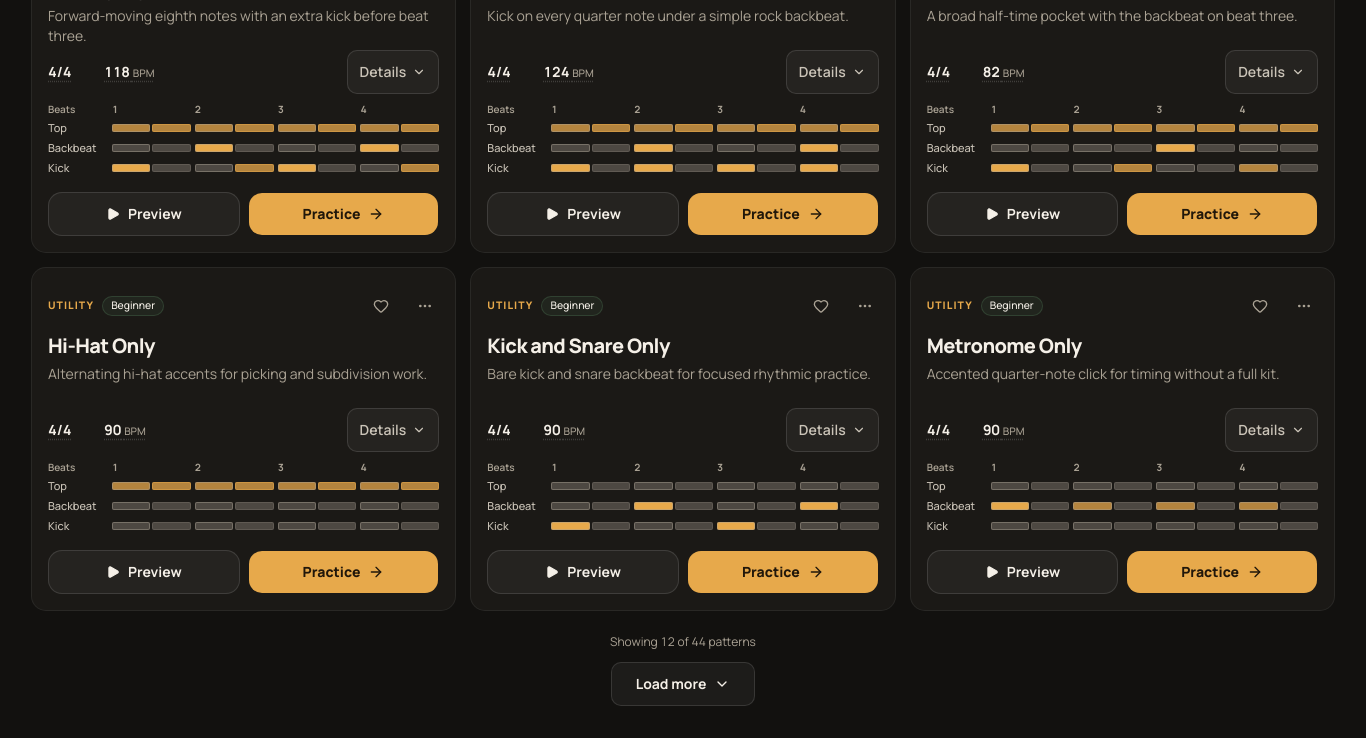
Test: pattern browser › loads all built-in patterns in batches without duplicates and focuses new results
(page scrolled)
Expected: the text "Showing 12 of 44 patterns" is shown, [610, 634, 756, 650]
Click the button "Load more": (683, 684) [611, 662, 755, 706]
(page scrolled)
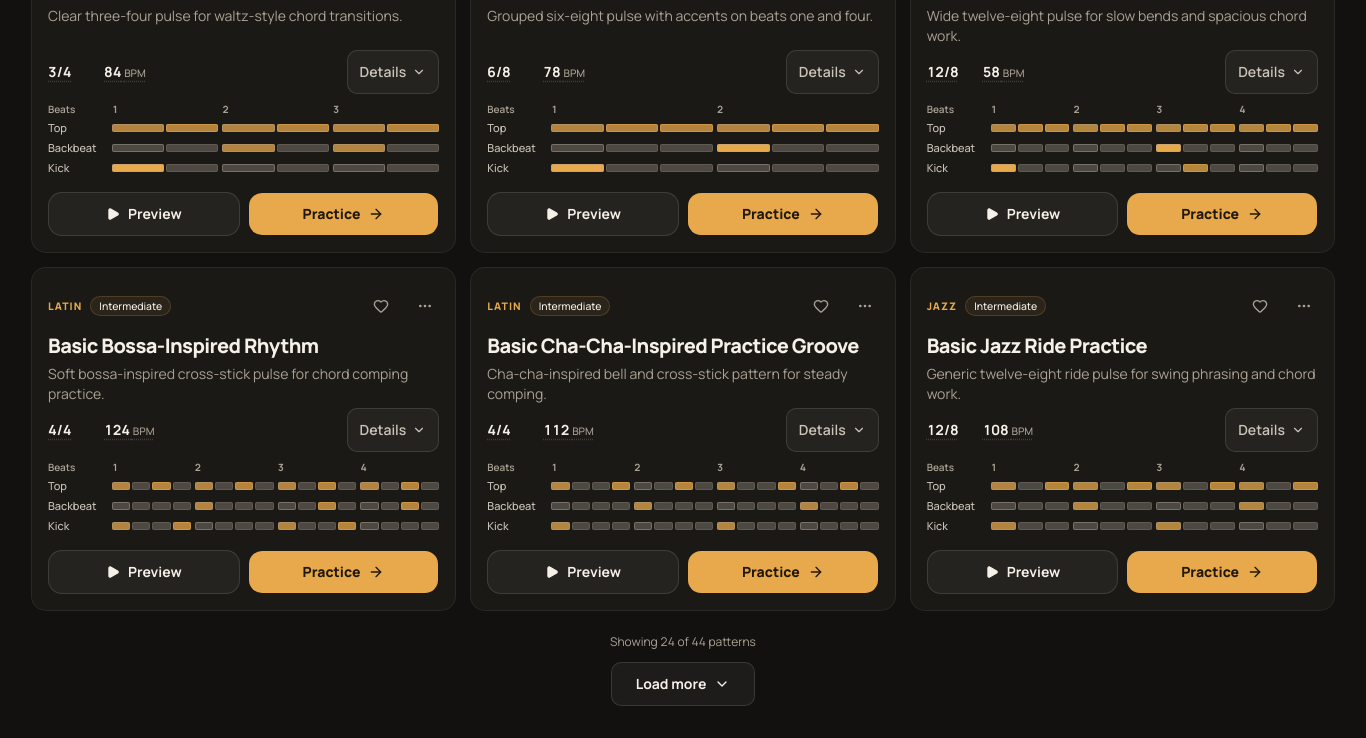
Click the button "Load more": (683, 684) [611, 662, 755, 706]
(page scrolled)
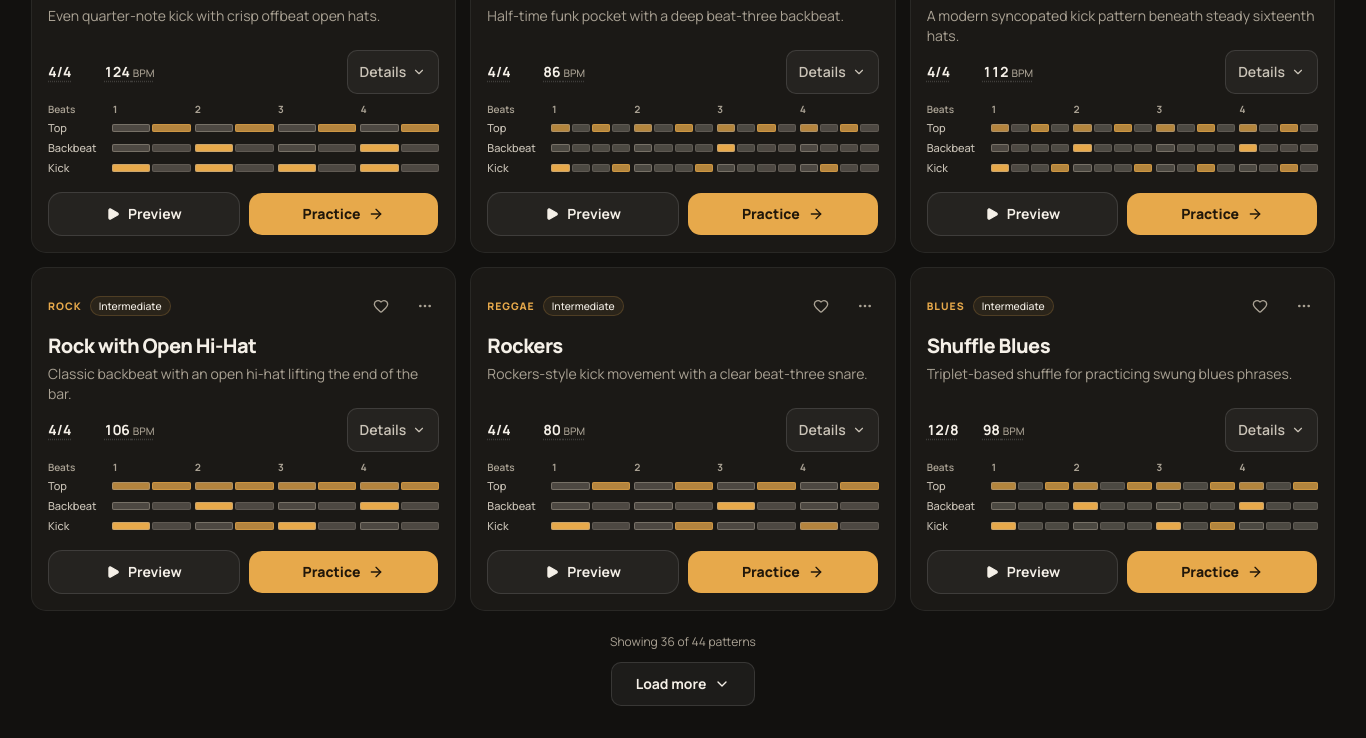
Click the button "Load more": (683, 684) [611, 662, 755, 706]
(page scrolled)
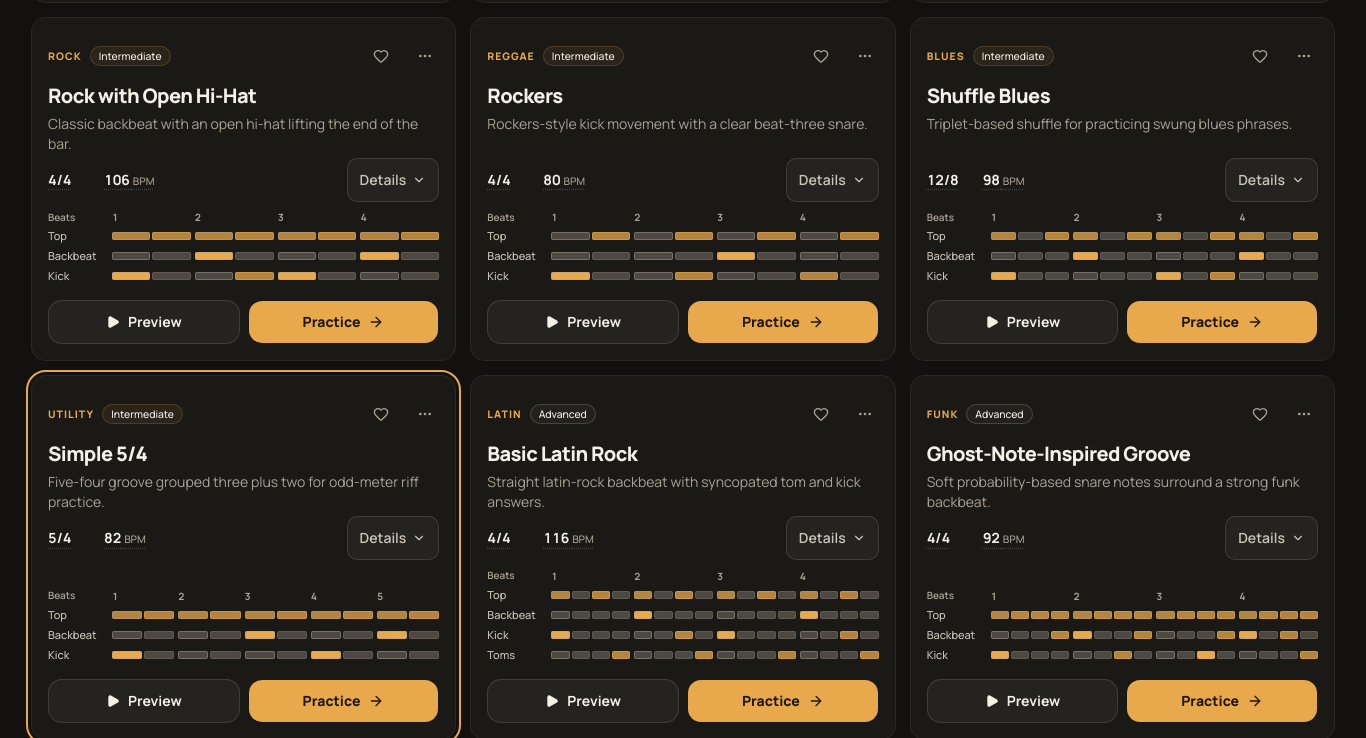
Expected: the button "Load more" is gone
